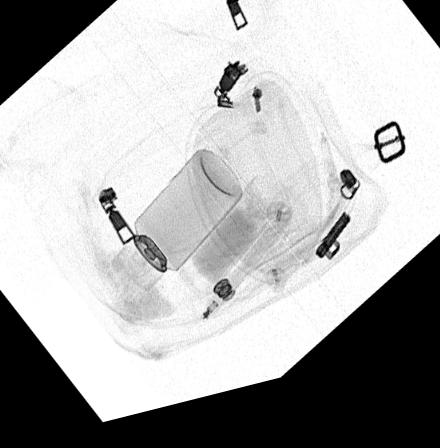Sprayer: (115, 159, 241, 298)
